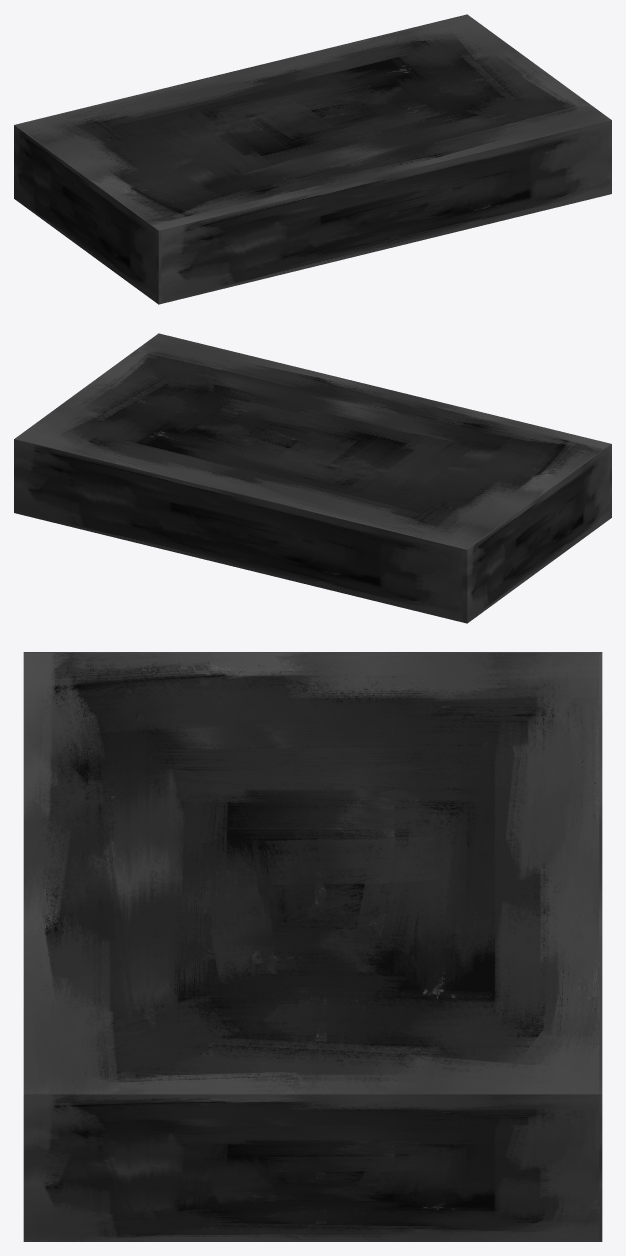
The model's file is EREB.fbx.
3 renders of one model, top to bottom at view 1: azimuth 30°, elevation 25°; view 2: azimuth 150°, elevation 25°; view 3: azimuth 270°, elevation 25°, orthographic. The views are drawn at different scales.
Visible parts, largest first — view 1: 立方体.009; view 2: 立方体.009; view 3: 立方体.009.
Boxes of the visible parts, <box> form: 立方体.009: <box>14,14,611,304</box>; 立方体.009: <box>14,333,611,623</box>; 立方体.009: <box>23,652,602,1241</box>.
Bounding box in the file's own units: 1682 × 262 × 930.
